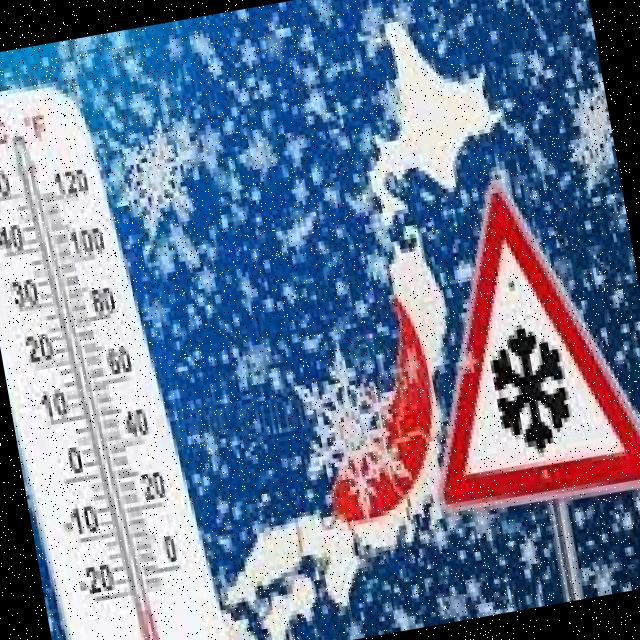snow_warning: (378, 143, 640, 540)
